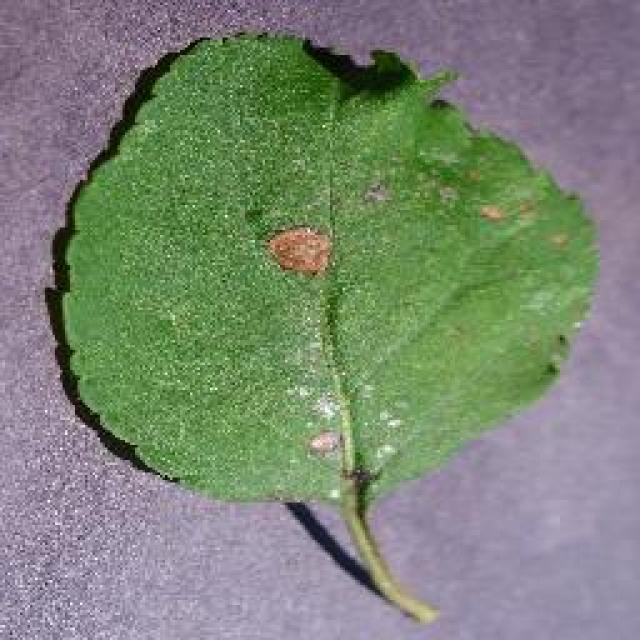apple black rot: (42, 28, 602, 622)
